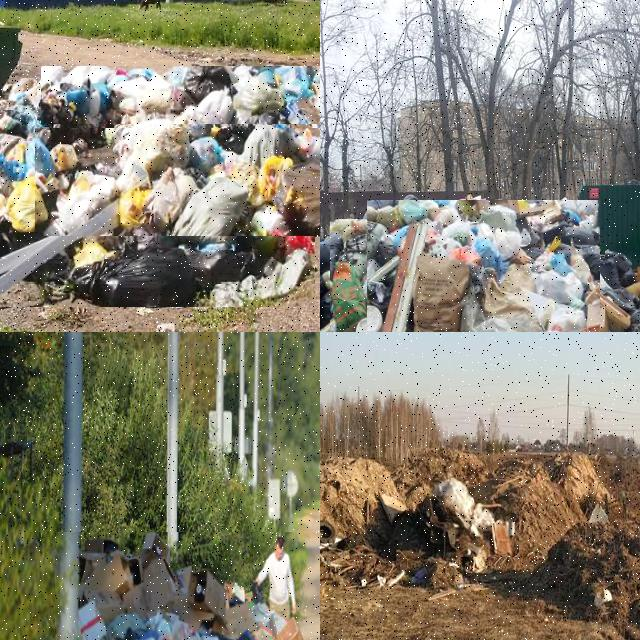lixeira: (36, 128, 319, 238), (367, 200, 603, 331), (56, 532, 319, 639), (0, 233, 317, 309), (40, 65, 319, 126), (330, 220, 424, 331), (426, 478, 520, 558), (0, 77, 39, 234)
